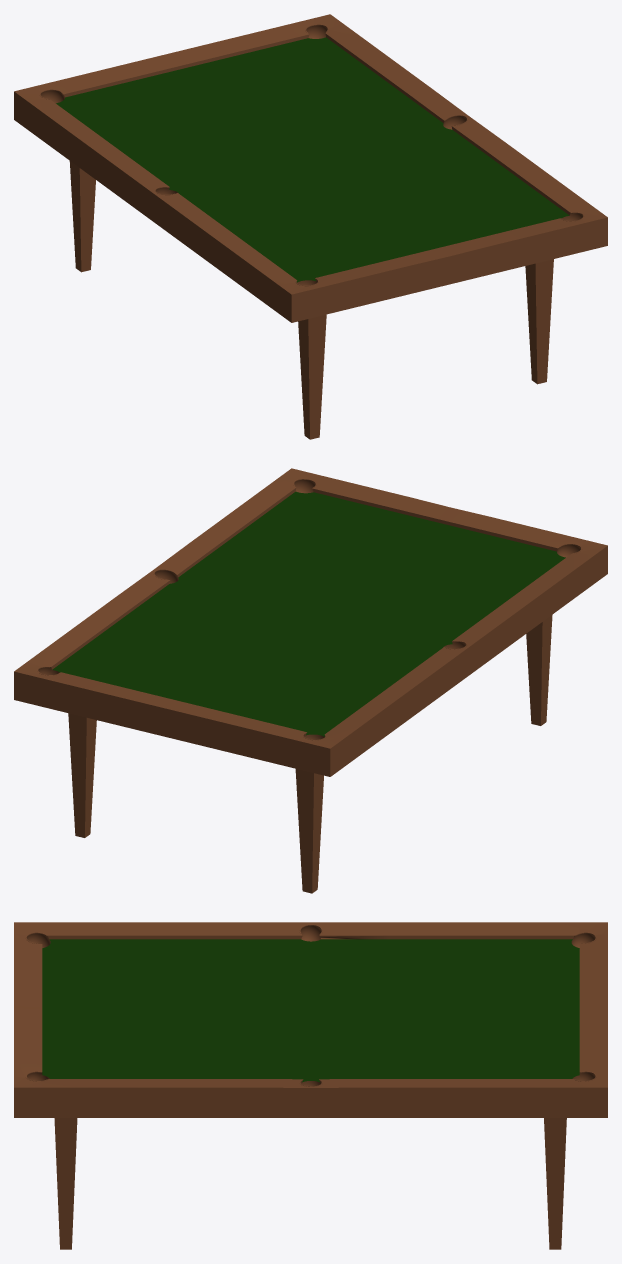
Rendered from Pool.fbx.
3 views of the same model, one above another, from view 1: azimuth 30°, elevation 25°; view 2: azimuth 150°, elevation 25°; view 3: azimuth 270°, elevation 25° (orthographic). The views are drawn at different scales.
Visible parts, largest first — view 1: Cube.004; view 2: Cube.004; view 3: Cube.004.
Boxes of the visible parts, <box> form: Cube.004: <box>14,14,607,439</box>; Cube.004: <box>14,468,607,893</box>; Cube.004: <box>14,922,607,1249</box>.
Size of the model in its own units: 250 by 129 by 380.
